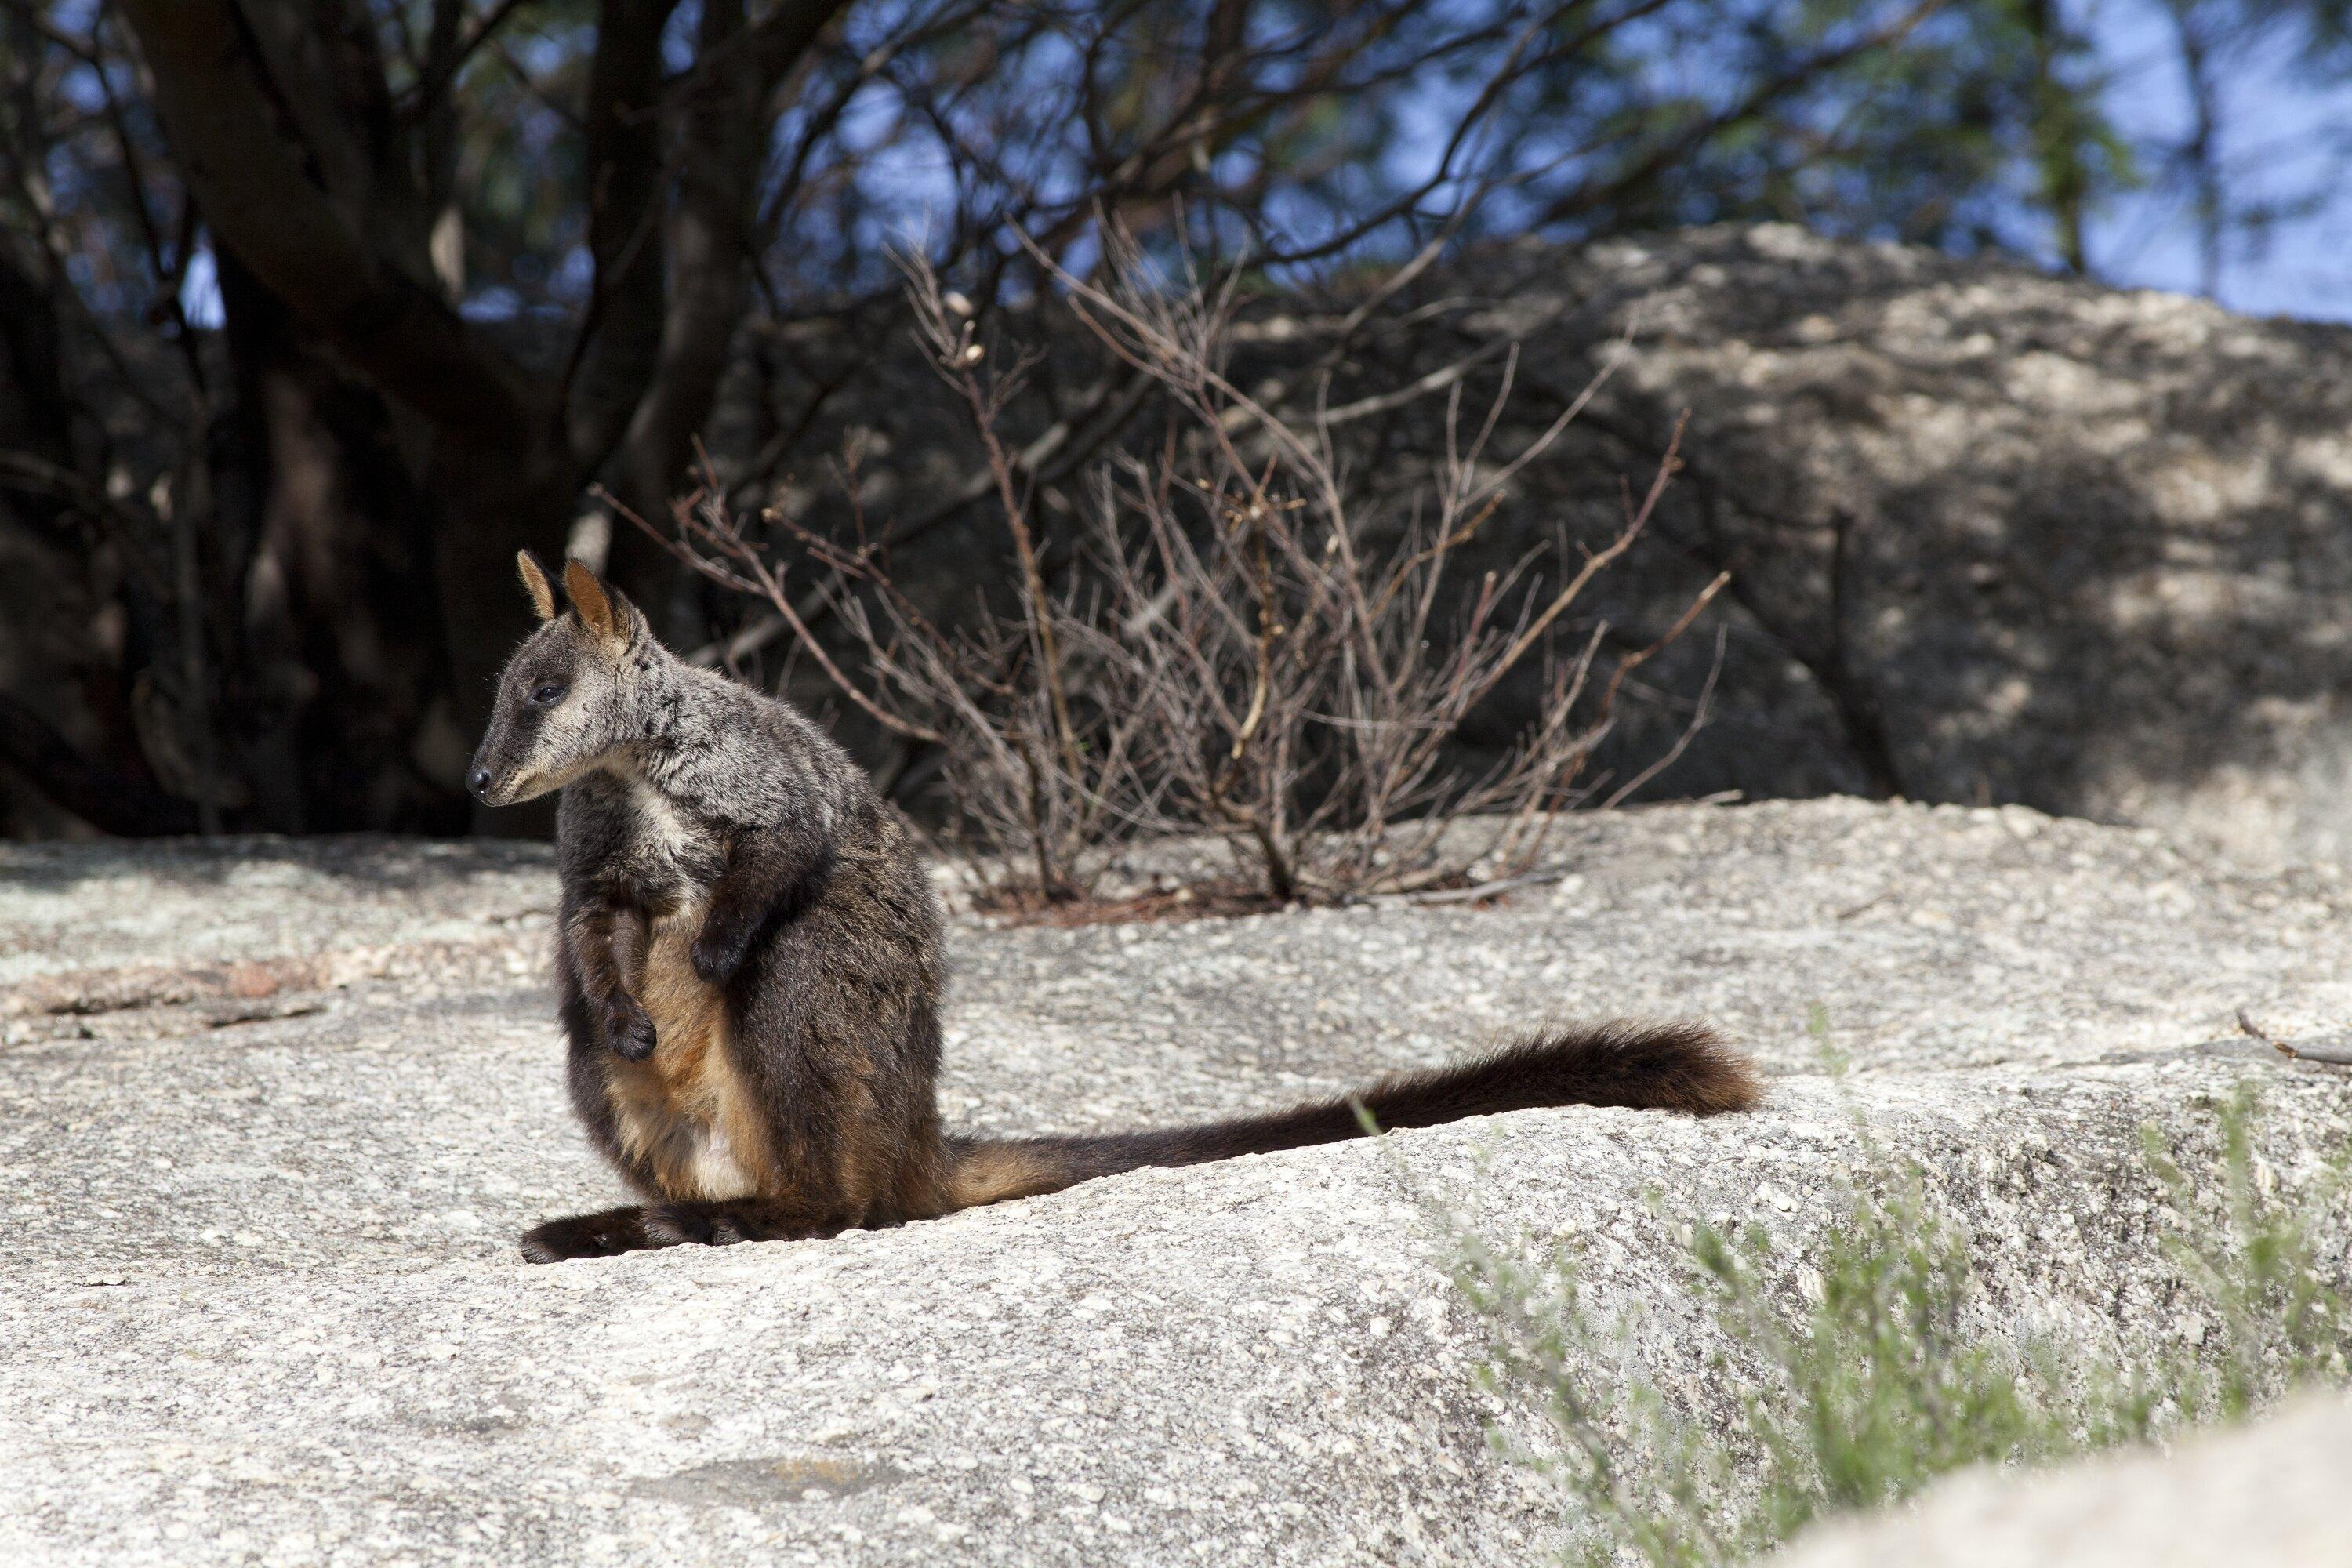Brush-tailed rock-wallaby: (460, 544, 1775, 1270)
